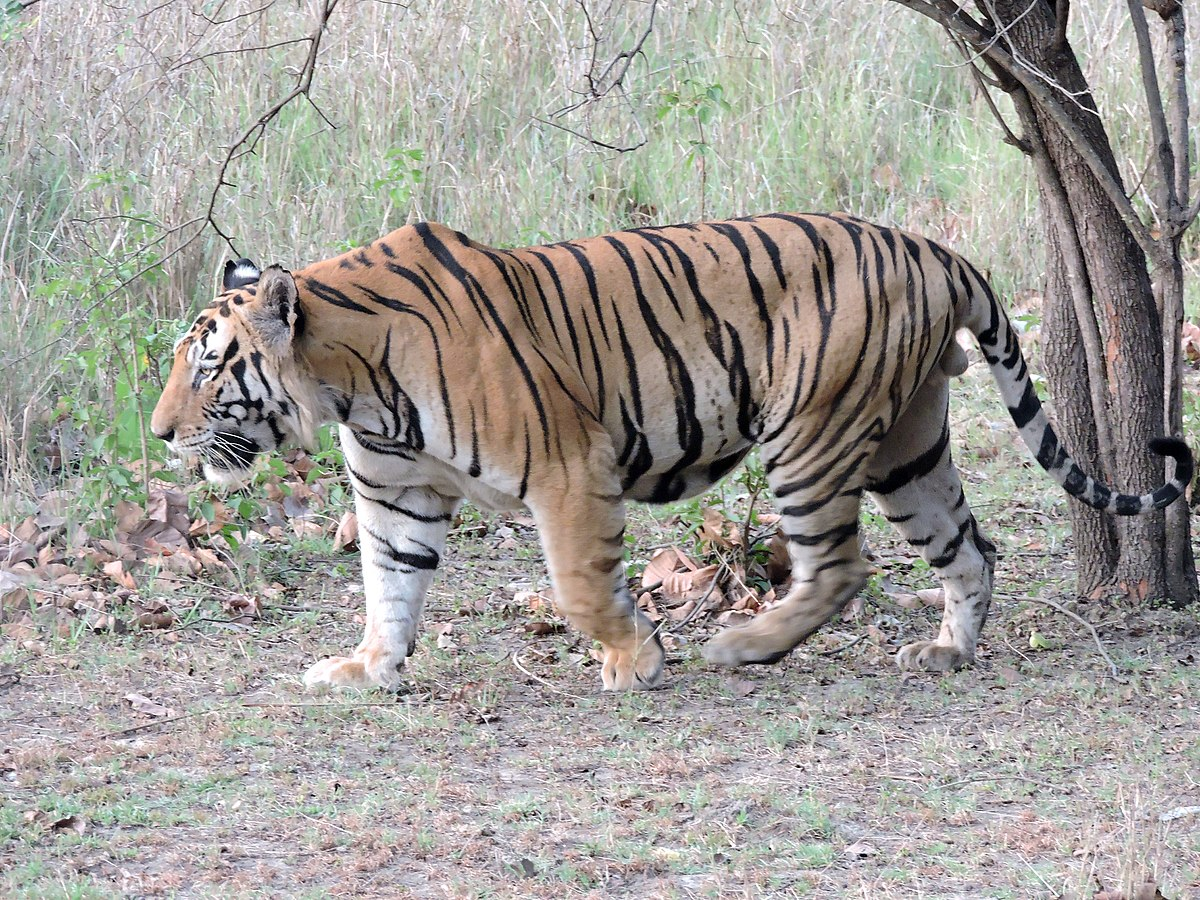Tiger: (122, 194, 1198, 683)
